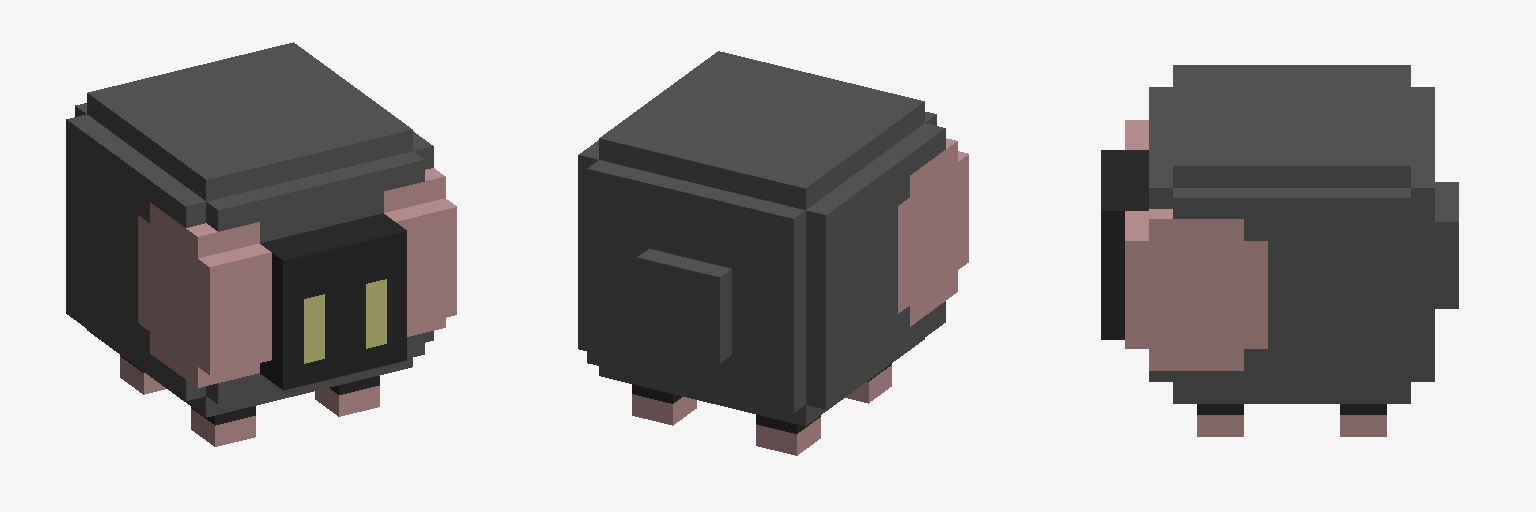
3 views of the same model, side by side, from view 1: azimuth 30°, elevation 25°; view 2: azimuth 150°, elevation 25°; view 3: azimuth 270°, elevation 25° (orthographic).
Parts seen in each view (by area): view 1: object 1; view 2: object 1; view 3: object 1.
Boxes of the visible parts, <box> form: object 1: <box>66,42,456,446</box>; object 1: <box>578,51,968,455</box>; object 1: <box>1101,65,1458,436</box>.
Size of the model in its own units: 1.2 by 1.3 by 1.5.
Materials: 1 (1 with a texture image).